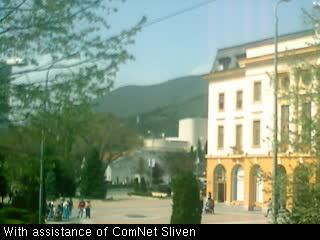person: (203, 194, 214, 215), (263, 197, 274, 217), (63, 200, 72, 221), (47, 201, 55, 221), (77, 199, 85, 218), (85, 201, 92, 220), (68, 197, 73, 217)
